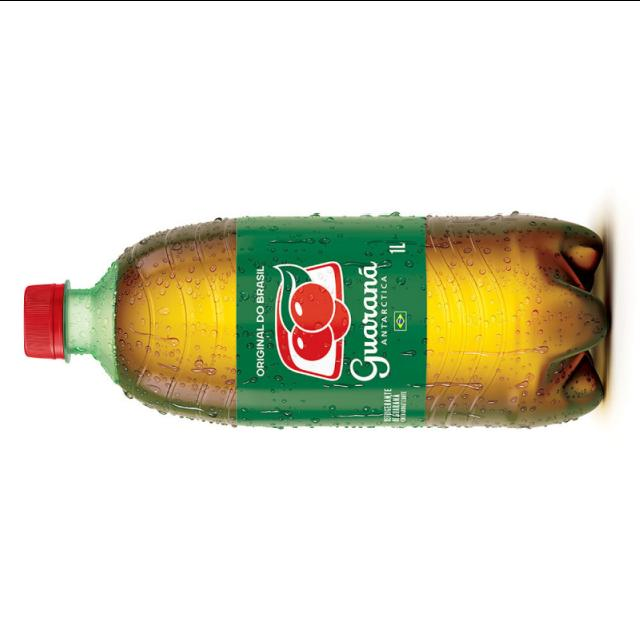bottle: (25, 213, 608, 427)
